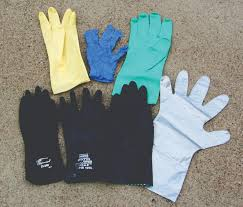gloves: (11, 92, 146, 188), (154, 74, 222, 207), (33, 7, 91, 89)
